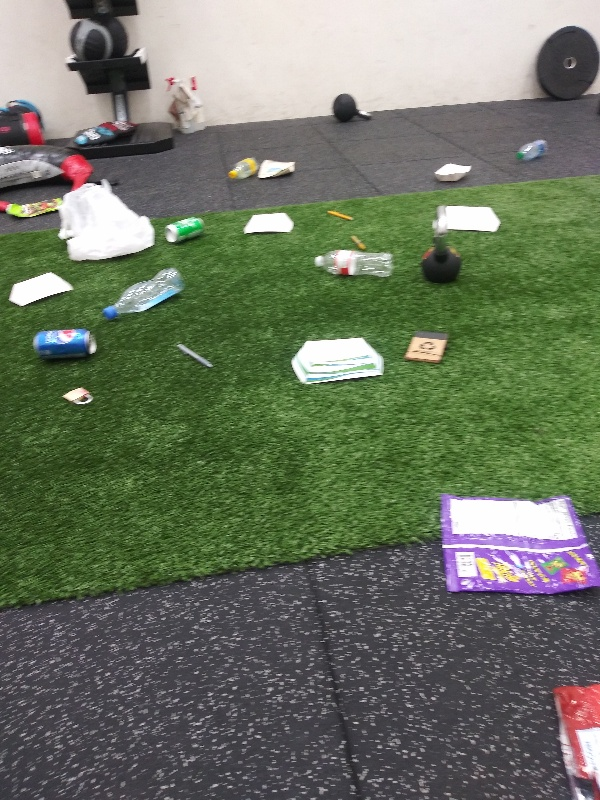bag: (431, 489, 600, 600), (547, 676, 600, 799), (4, 193, 65, 225), (254, 155, 302, 185)
bottle: (97, 265, 188, 324), (310, 247, 399, 279), (513, 134, 551, 168), (222, 154, 262, 186)
can: (29, 325, 103, 363), (161, 214, 210, 246)
plate: (285, 336, 388, 389), (5, 269, 78, 311), (440, 202, 510, 236), (243, 209, 300, 237), (429, 159, 478, 186)
